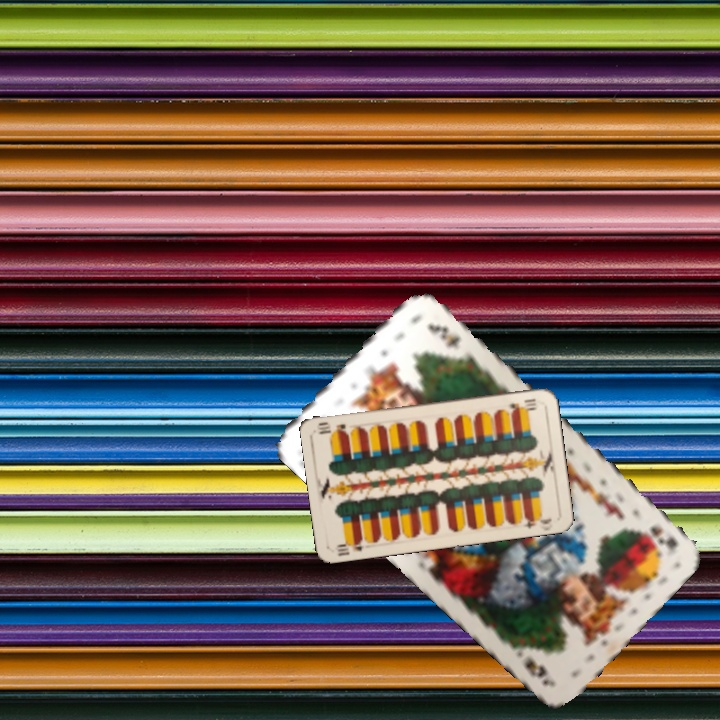E10: (332, 535, 366, 558), (505, 395, 539, 413)
SK: (646, 521, 680, 555)
